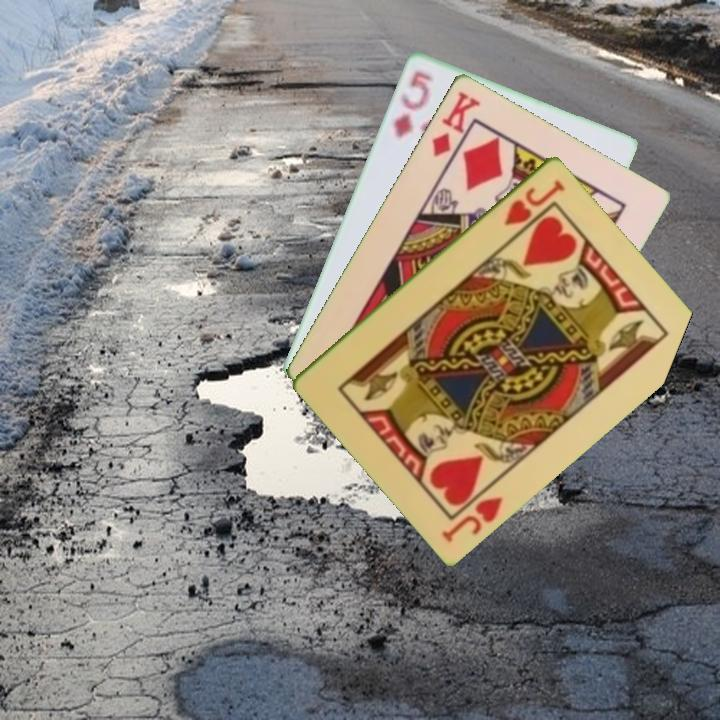5d: (390, 67, 436, 141)
Jh: (438, 491, 506, 545), (500, 175, 568, 228)
Kd: (428, 87, 484, 159)
